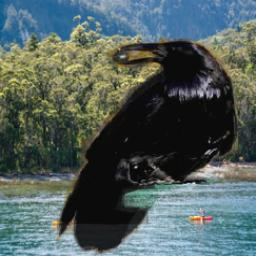Crow: (57, 39, 238, 254)
